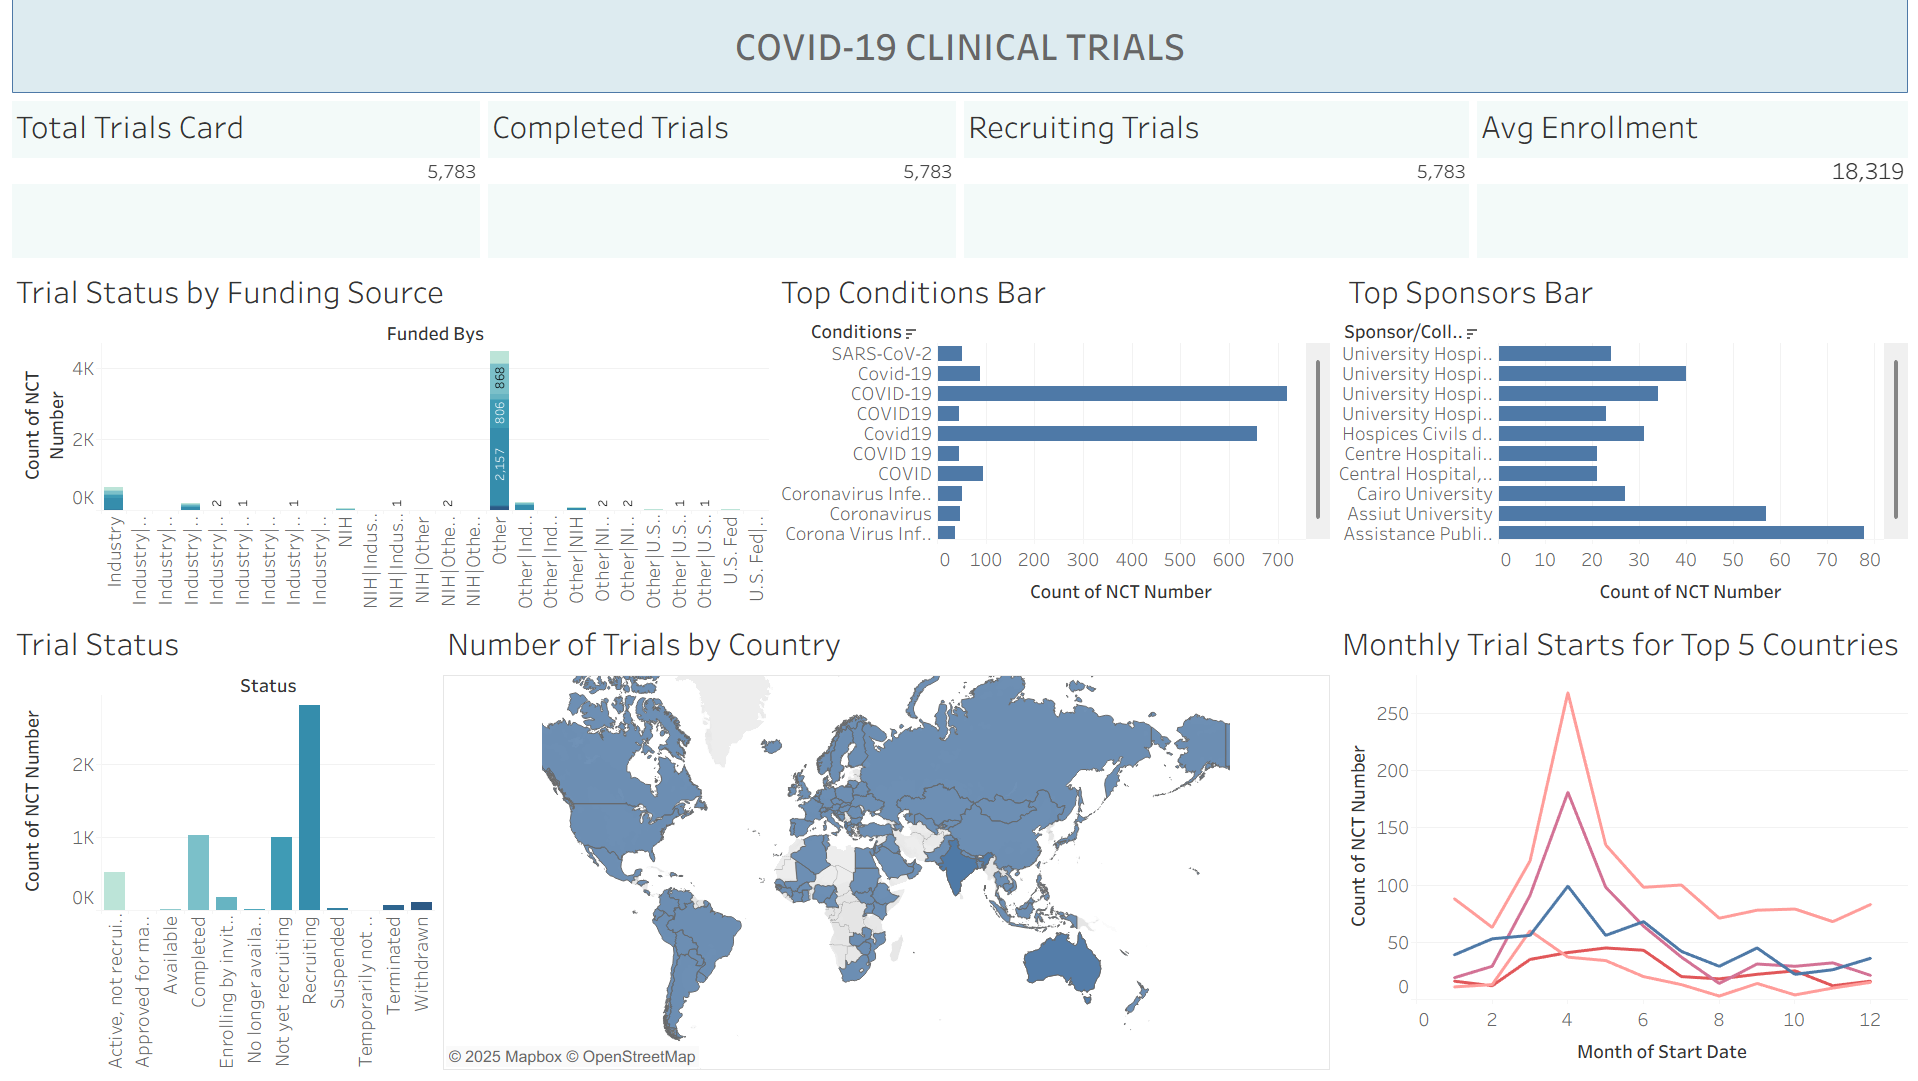

The dashboard page shown, as its layout file describes it:
{"tool":"tableau","page":{"name":"COVID-19 CLINICAL TRIALS","canvas":[1000,1000],"units":"permille","ordinal":0},"visuals":[{"type":"text","box":[5,9.2,990,92.4]},{"type":"worksheet","title":"Total Trials Card","mark":"Text","box":[5,101.6,247.5,150.9]},{"type":"worksheet","title":"Completed Trials","mark":"Text","box":[252.5,101.6,247.5,150.9]},{"type":"worksheet","title":"Recruiting Trials ","mark":"Text","box":[500,101.6,266.8,150.9]},{"type":"worksheet","title":"Avg Enrollment ","mark":"Automatic","box":[766.7,101.6,228.3,150.9]},{"type":"worksheet","title":"Trial Status by Funding Source","mark":"Bar","rows":["NCT Number"],"cols":["Funded Bys"],"box":[5,252.5,397.8,320.2]},{"type":"worksheet","title":"Top Conditions Bar","mark":"Automatic","rows":["Conditions"],"cols":["NCT Number"],"box":[402.7,252.5,291.8,320.2]},{"type":"worksheet","title":" Top Sponsors Bar","mark":"Automatic","rows":["Sponsor/Collaborators"],"cols":["NCT Number"],"box":[694.5,252.5,300.5,320.2]},{"type":"worksheet","title":"Trial Status","mark":"Bar","rows":["NCT Number"],"cols":["Status"],"box":[5,572.7,224.1,418]},{"type":"worksheet","title":"Number of Trials by Country","mark":"Multipolygon","box":[229.1,572.7,465.4,418]},{"type":"worksheet","title":"Monthly Trial Starts for Top 5 Countries","mark":"Automatic","rows":["NCT Number"],"cols":["Start Date"],"box":[694.5,572.7,300.5,418]}]}

Visuals, with their boxes on the dashboard's canvas, which has no fixed pixel size, in thousandths of its width and height (x1, y1, x2, y2). These are canvas units, not pixel positions in the 1918x1081 screenshot, which may show the page scaled, cropped or inside an application window:
text: {"x1": 5, "y1": 9, "x2": 995, "y2": 102}
"Total Trials Card" worksheet (Text marks): {"x1": 5, "y1": 102, "x2": 252, "y2": 252}
"Completed Trials" worksheet (Text marks): {"x1": 252, "y1": 102, "x2": 500, "y2": 252}
"Recruiting Trials " worksheet (Text marks): {"x1": 500, "y1": 102, "x2": 767, "y2": 252}
"Avg Enrollment " worksheet: {"x1": 767, "y1": 102, "x2": 995, "y2": 252}
"Trial Status by Funding Source" worksheet (Bar marks): {"x1": 5, "y1": 252, "x2": 403, "y2": 573}
"Top Conditions Bar" worksheet: {"x1": 403, "y1": 252, "x2": 694, "y2": 573}
" Top Sponsors Bar" worksheet: {"x1": 694, "y1": 252, "x2": 995, "y2": 573}
"Trial Status" worksheet (Bar marks): {"x1": 5, "y1": 573, "x2": 229, "y2": 991}
"Number of Trials by Country" worksheet (Multipolygon marks): {"x1": 229, "y1": 573, "x2": 694, "y2": 991}
"Monthly Trial Starts for Top 5 Countries" worksheet: {"x1": 694, "y1": 573, "x2": 995, "y2": 991}
